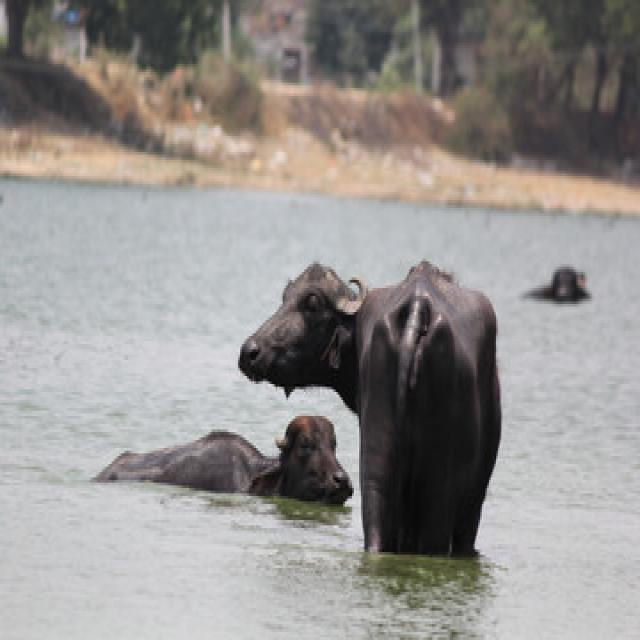Buffalo: (238, 257, 506, 557)
